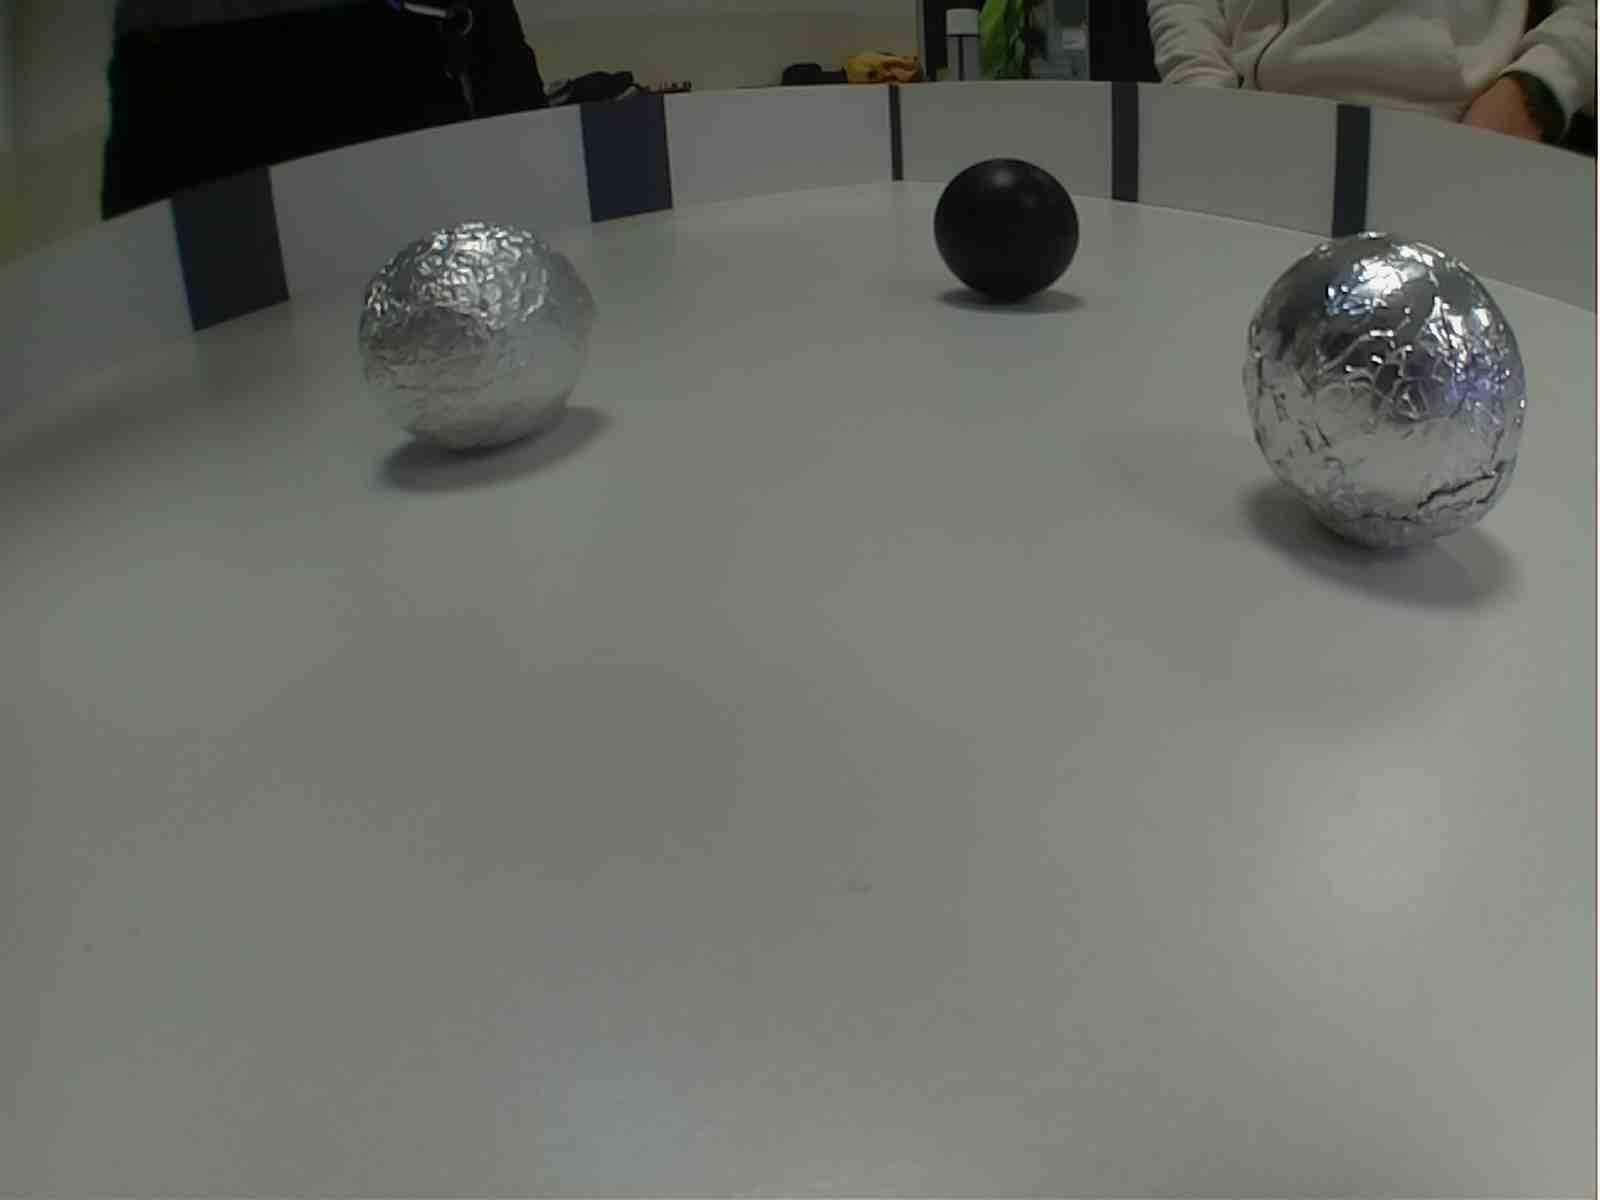bianca: (1243, 228, 1532, 558), (350, 219, 603, 458)
nera: (927, 151, 1085, 303)
